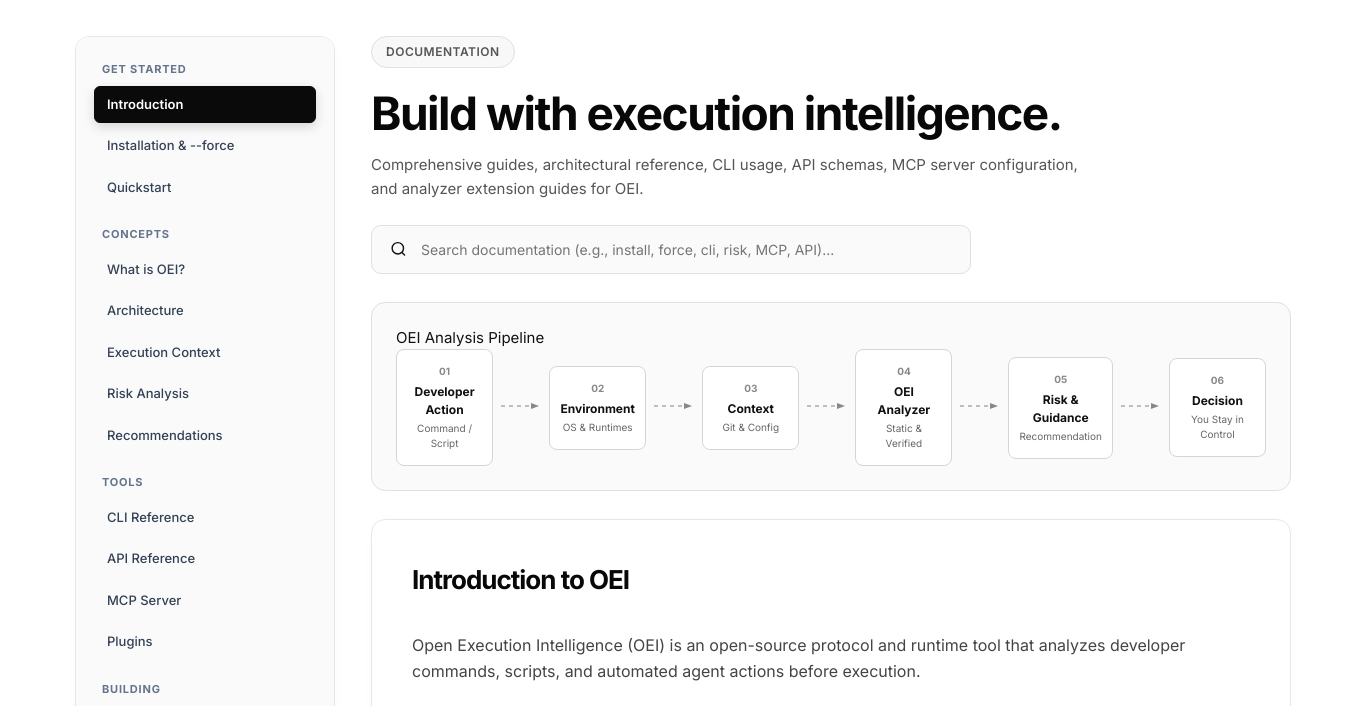
Test case: DocsPage › renders the dedicated article for What is OEI?
The image size is (1366, 706).
Click the button "What is OEI?".
click(205, 269)  # box [94,250,316,288]
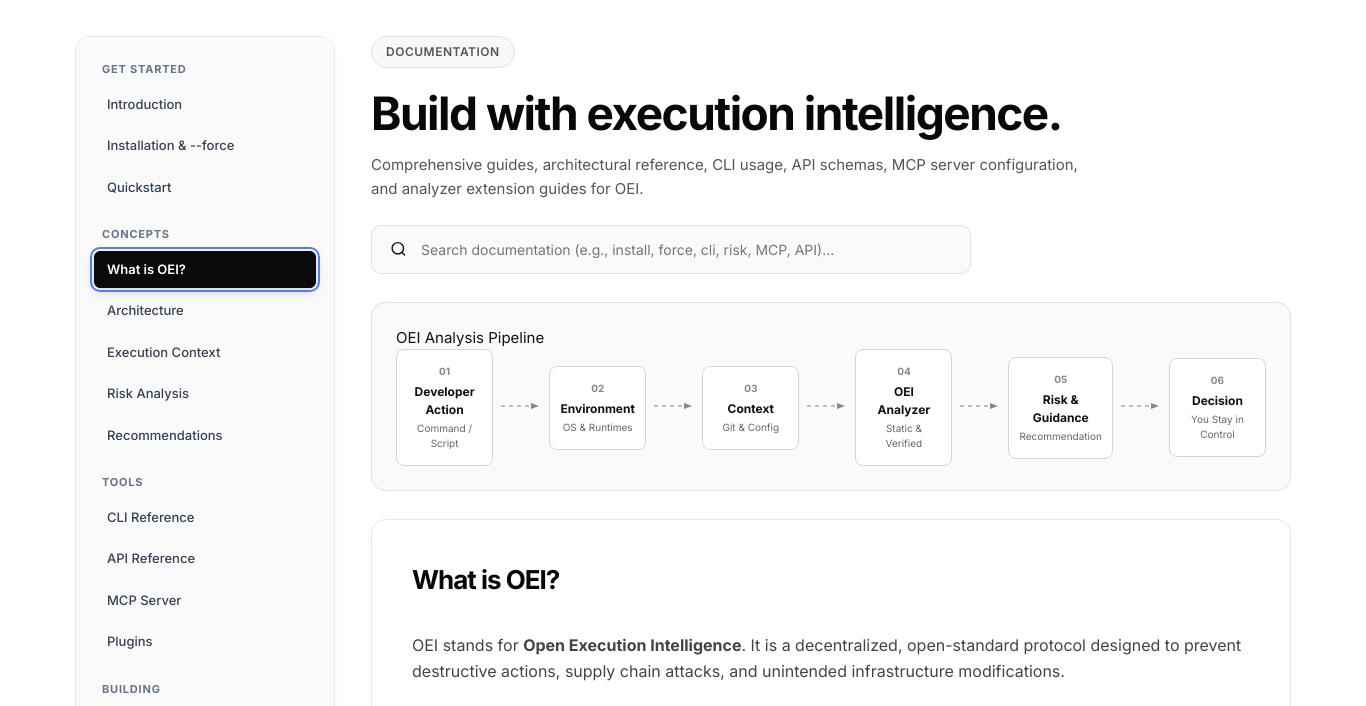
Result: the heading "What is OEI?" is shown at [412,564,559,595]
Result: the heading "Introduction to OEI" is gone
